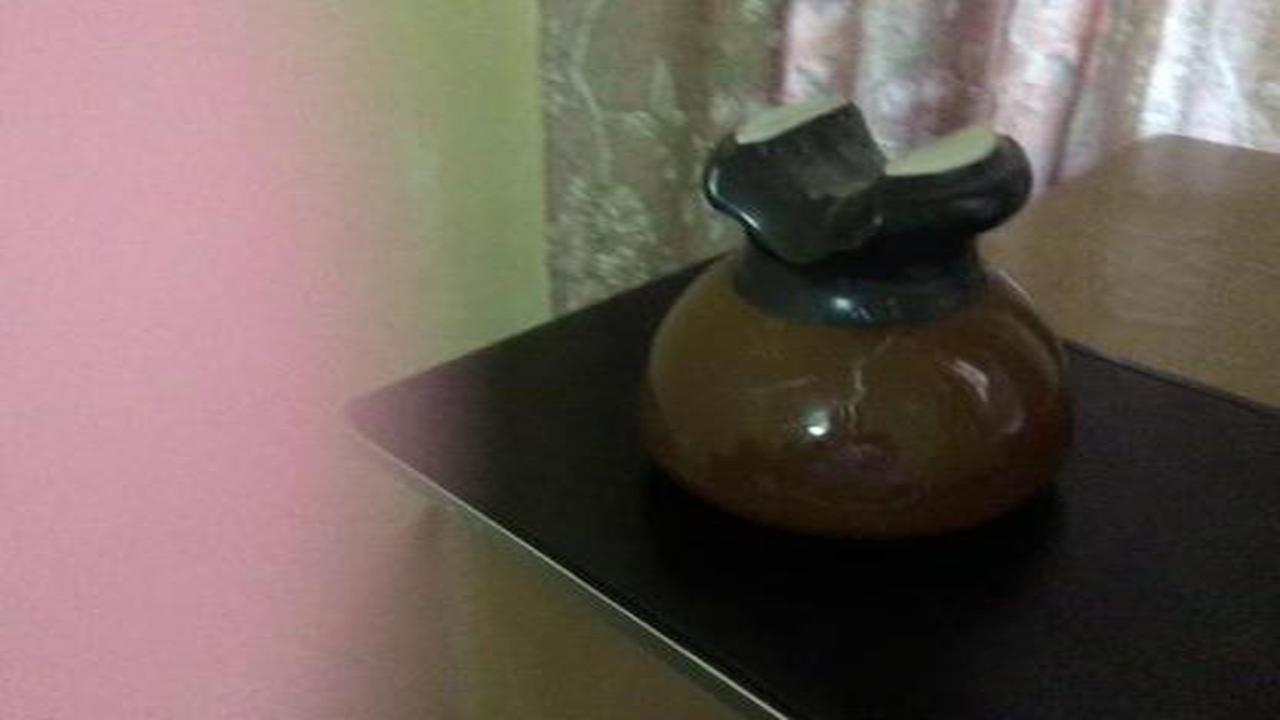insulator_pin: (622, 74, 1111, 558)
